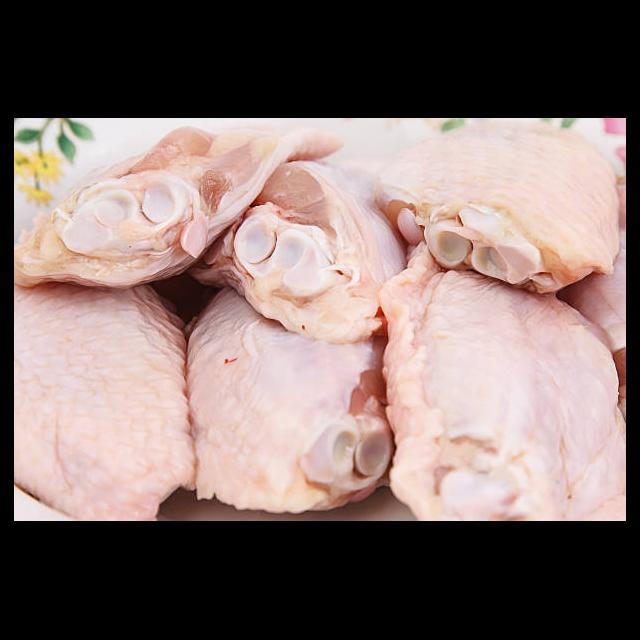chicken: (378, 242, 626, 520), (15, 120, 342, 286), (188, 282, 408, 518), (15, 276, 192, 520), (375, 123, 620, 294)
